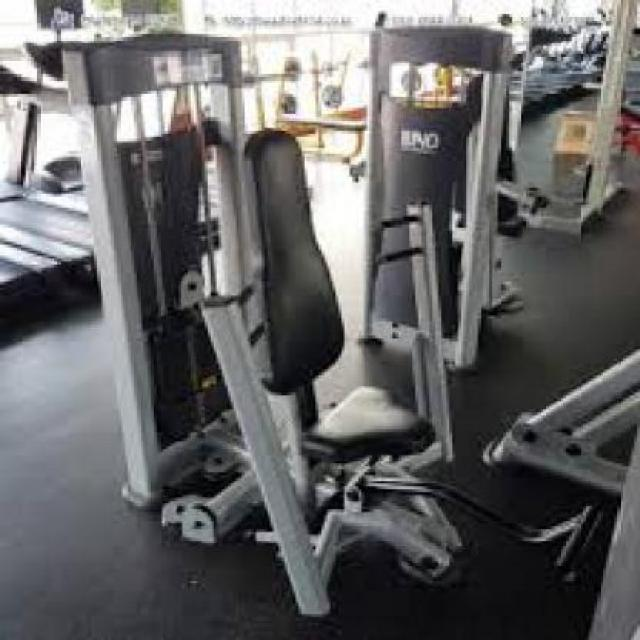Chest Press machine: (55, 18, 597, 631)
